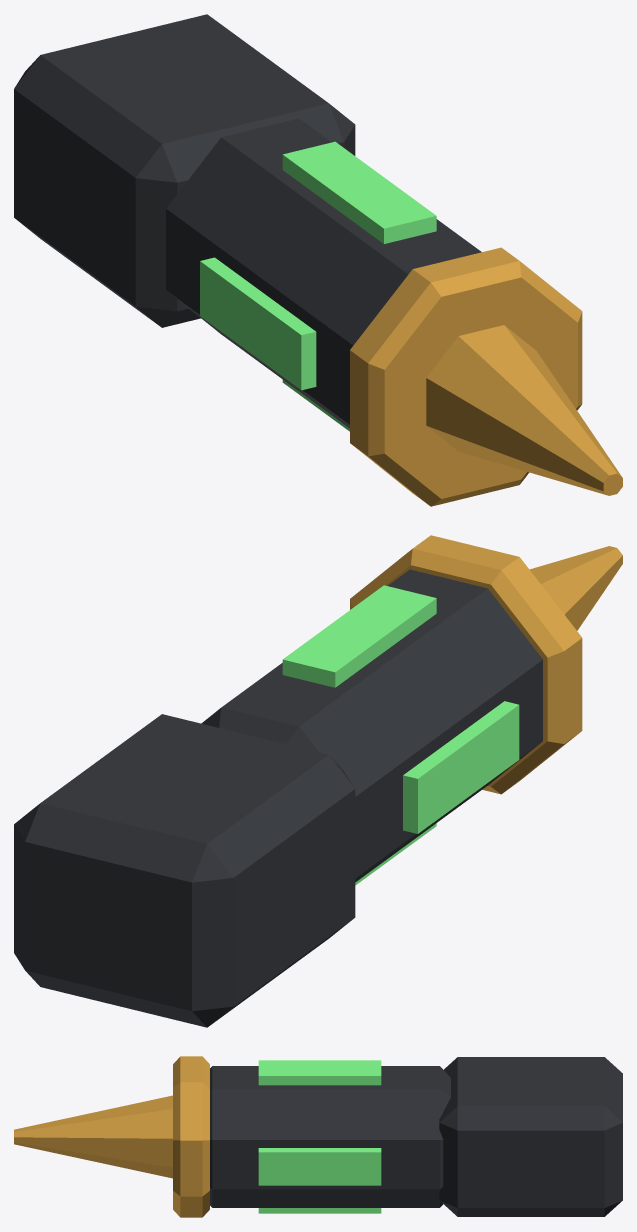
The model's file is MenderBarrel.obj.
The picture shows the model from 3 angles, top to bottom: view 1: azimuth 30°, elevation 25°; view 2: azimuth 150°, elevation 25°; view 3: azimuth 270°, elevation 25°; orthographic projection. The views are drawn at different scales.
Parts seen in each view (by area): view 1: MenderBarrel; view 2: MenderBarrel; view 3: MenderBarrel.
Boxes of the visible parts, left/top/right/bottom form: MenderBarrel: left=14, top=14, right=622, bottom=506; MenderBarrel: left=14, top=535, right=622, bottom=1027; MenderBarrel: left=14, top=1056, right=622, bottom=1217.
Bounding box in the file's own units: 0.128 × 0.127 × 0.5094.
